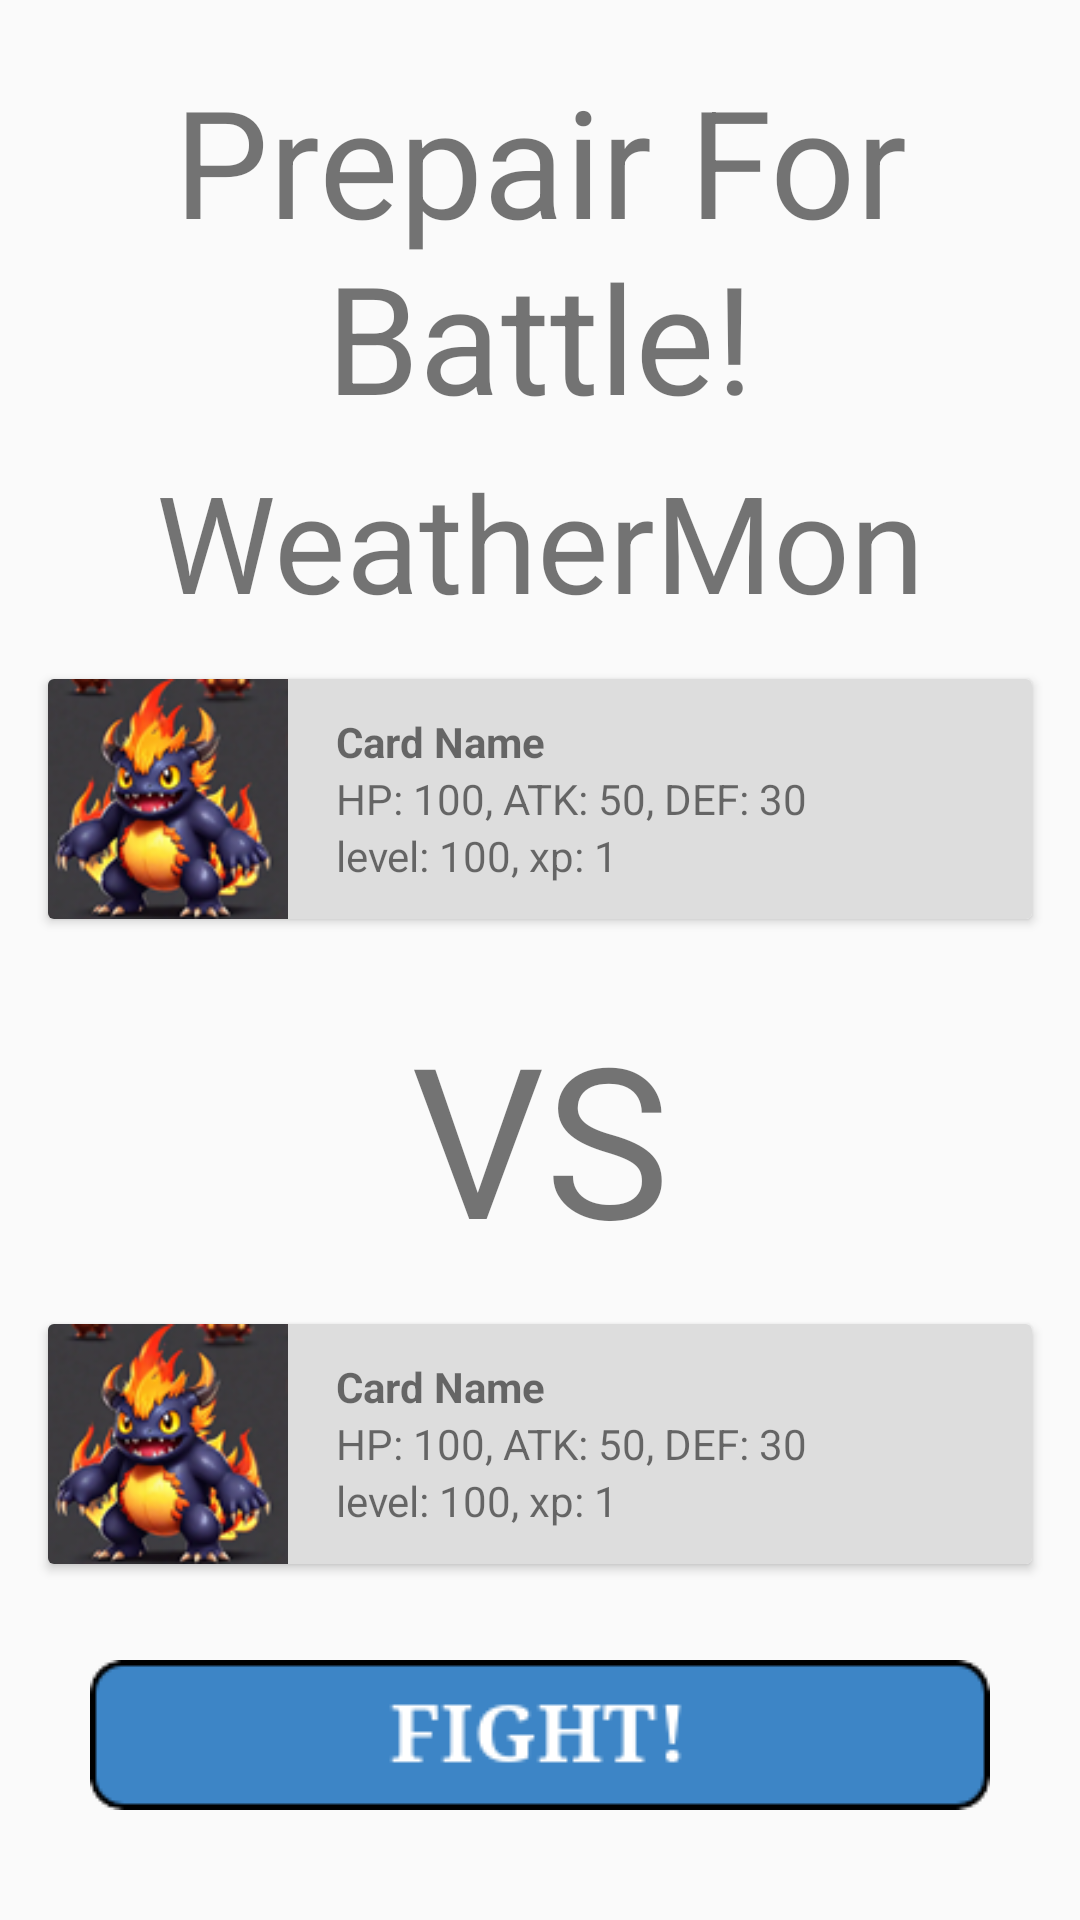

Screen size 1080px x 1920px. Icon name, then its center in pixels as point (x, y):
Monster Image: point (168, 799), point (168, 1444)
